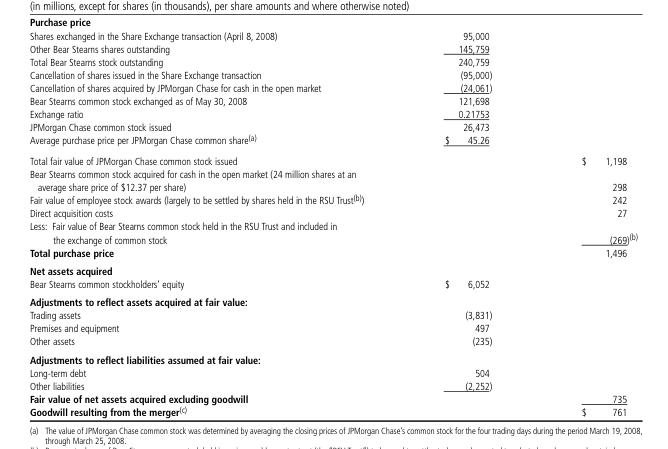table: (28, 29, 636, 417)
table column: (28, 29, 403, 417), (403, 29, 535, 417), (535, 29, 632, 417), (632, 29, 636, 417)
table column header: (28, 29, 636, 245)
table projected row header: (28, 261, 636, 277), (28, 292, 636, 308), (28, 350, 636, 365)
table row: (28, 29, 636, 245), (28, 245, 636, 261), (28, 261, 636, 277), (28, 292, 636, 308), (28, 334, 636, 350), (28, 277, 636, 292), (28, 350, 636, 365), (28, 308, 636, 321), (28, 321, 636, 334), (28, 365, 636, 378), (28, 378, 636, 391), (28, 391, 636, 404), (28, 404, 636, 417)
